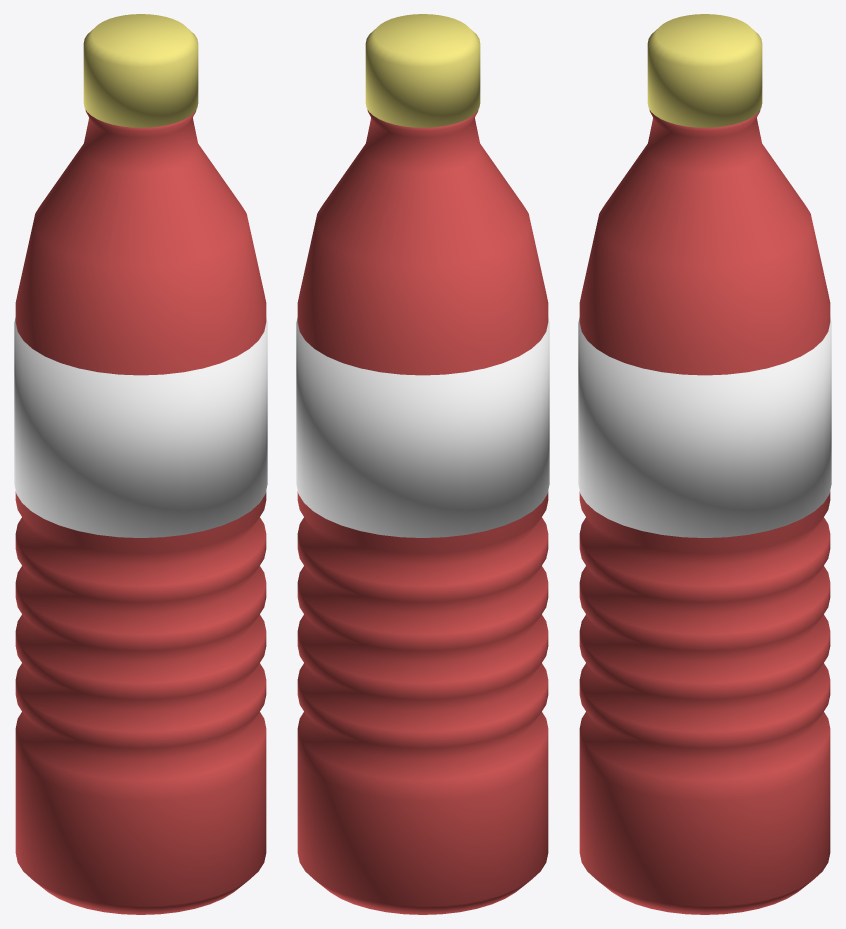
File: SM_Julebrus.glb
The picture shows the model from 3 angles, left to right: view 1: azimuth 30°, elevation 25°; view 2: azimuth 150°, elevation 25°; view 3: azimuth 270°, elevation 25°; orthographic projection.
Visible parts, largest first — view 1: SM_Julebrus; view 2: SM_Julebrus; view 3: SM_Julebrus.
Boxes of the visible parts, bbox=[...] form: SM_Julebrus: bbox=[14, 14, 267, 914]; SM_Julebrus: bbox=[296, 14, 549, 914]; SM_Julebrus: bbox=[578, 14, 831, 914].
Bounding box in the file's own units: 0.0566 × 0.206 × 0.0566.
